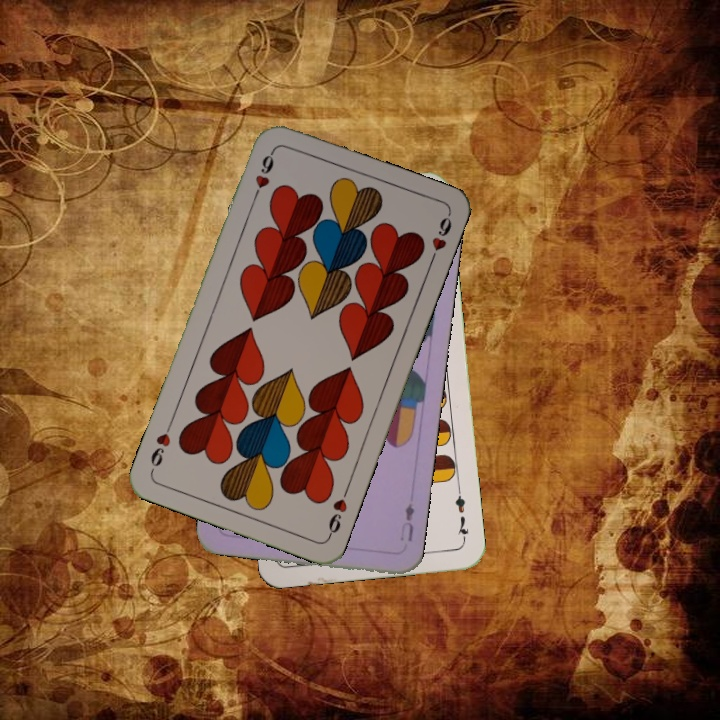E7: (451, 485, 472, 544)
EU: (396, 499, 417, 545)
H9: (248, 146, 278, 203), (324, 483, 352, 540)
